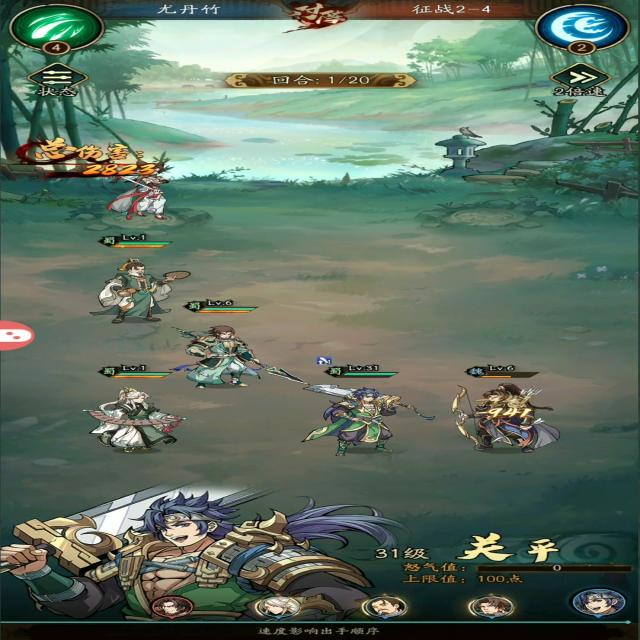hint-guide: (227, 620, 406, 640)
operation-fightspeed: (534, 60, 626, 101)
operation-state: (16, 56, 99, 101)
